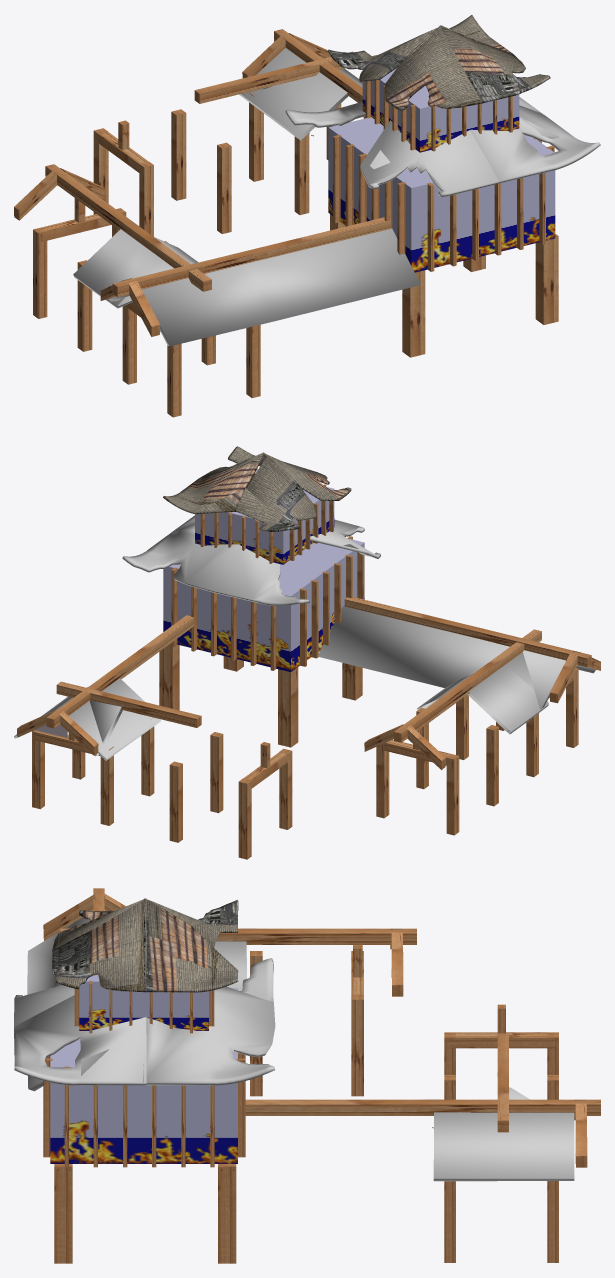
The model's file is YamatoTownCenterSemi.fbx.
The picture shows the model from 3 angles, top to bottom: view 1: azimuth 30°, elevation 25°; view 2: azimuth 150°, elevation 25°; view 3: azimuth 270°, elevation 25°; orthographic projection. The views are drawn at different scales.
Visible parts, largest first — view 1: sostreToldo, Cube, SostreGran, SostrePetit, columnesCopia, columnes, columnesCentrals, Cube_001, bigaSostre_003, columnaAltellGran_002, columnaAltellGran_000, bigaSostre_001 (+9 smaller); view 2: sostreToldo, Cube, SostrePetit, SostreGran, columnesCopia, columnes, columnesCentrals, Cube_001, bigaSostre_003, columnaAltellGran_000, columnaAltellGran_003, bigaSostre_002 (+10 smaller); view 3: SostreGran, SostrePetit, Cube, sostreToldo, bigaSostre_002, Cube_001, columnesCentrals, columnesCopia, bigaSostre_001, columnaAltellGran_001, columnes, biga2 (+8 smaller).
Part boxes in pixels (bbox=[...]): sostreToldo: bbox=[73, 48, 420, 346]; Cube: bbox=[328, 117, 555, 272]; SostreGran: bbox=[285, 97, 600, 197]; SostrePetit: bbox=[327, 15, 550, 110]; columnesCopia: bbox=[93, 92, 341, 236]; columnes: bbox=[33, 208, 260, 417]; columnesCentrals: bbox=[330, 214, 558, 357]; Cube_001: bbox=[362, 68, 519, 152]; bigaSostre_003: bbox=[112, 217, 390, 297]; columnaAltellGran_002: bbox=[427, 155, 545, 271]; columnaAltellGran_000: bbox=[333, 134, 405, 254]; bigaSostre_001: bbox=[45, 164, 211, 291]; sostreToldo: bbox=[14, 606, 595, 760]; Cube: bbox=[163, 539, 364, 672]; SostrePetit: bbox=[163, 446, 351, 531]; SostreGran: bbox=[122, 515, 380, 605]; columnesCopia: bbox=[32, 719, 292, 859]; columnes: bbox=[376, 668, 578, 835]; columnesCentrals: bbox=[159, 643, 362, 747]; Cube_001: bbox=[195, 470, 334, 564]; bigaSostre_003: bbox=[344, 597, 591, 667]; columnaAltellGran_000: bbox=[299, 552, 364, 666]; columnaAltellGran_003: bbox=[171, 567, 276, 670]; bigaSostre_002: bbox=[46, 615, 193, 728]; SostreGran: bbox=[14, 958, 275, 1085]; SostrePetit: bbox=[52, 898, 238, 992]; Cube: bbox=[50, 988, 237, 1163]; sostreToldo: bbox=[27, 910, 574, 1181]; bigaSostre_002: bbox=[245, 1099, 600, 1115]; Cube_001: bbox=[79, 975, 208, 1030]; columnesCentrals: bbox=[54, 1164, 236, 1263]; columnesCopia: bbox=[444, 1032, 558, 1262]; bigaSostre_001: bbox=[60, 928, 416, 944]; columnaAltellGran_001: bbox=[64, 1066, 214, 1167]; columnes: bbox=[250, 951, 363, 1096]; biga2: bbox=[448, 1004, 555, 1048].
Bounding box in the file's own units: 624 × 379 × 626.
